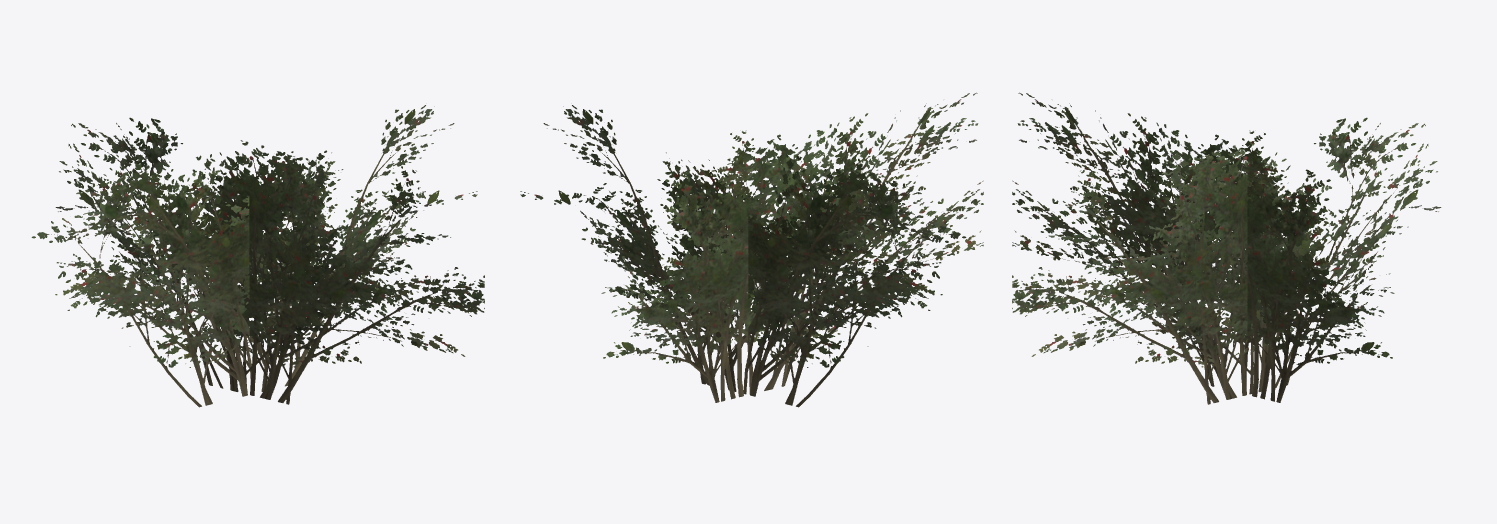
The model's file is sipek_2_daleko.glb.
The picture shows the model from 3 angles, left to right: view 1: azimuth 30°, elevation 25°; view 2: azimuth 150°, elevation 25°; view 3: azimuth 270°, elevation 25°; orthographic projection.
Parts seen in each view (by area): view 1: sipek_2_daleko; view 2: sipek_2_daleko; view 3: sipek_2_daleko.
Part boxes in pixels (x1,y1,x2,y2): sipek_2_daleko: [31, 105, 484, 407]; sipek_2_daleko: [520, 92, 983, 407]; sipek_2_daleko: [1012, 92, 1441, 404].
Bounding box in the file's own units: 3.22 × 1.74 × 2.79.
3 materials, 3 textured.
